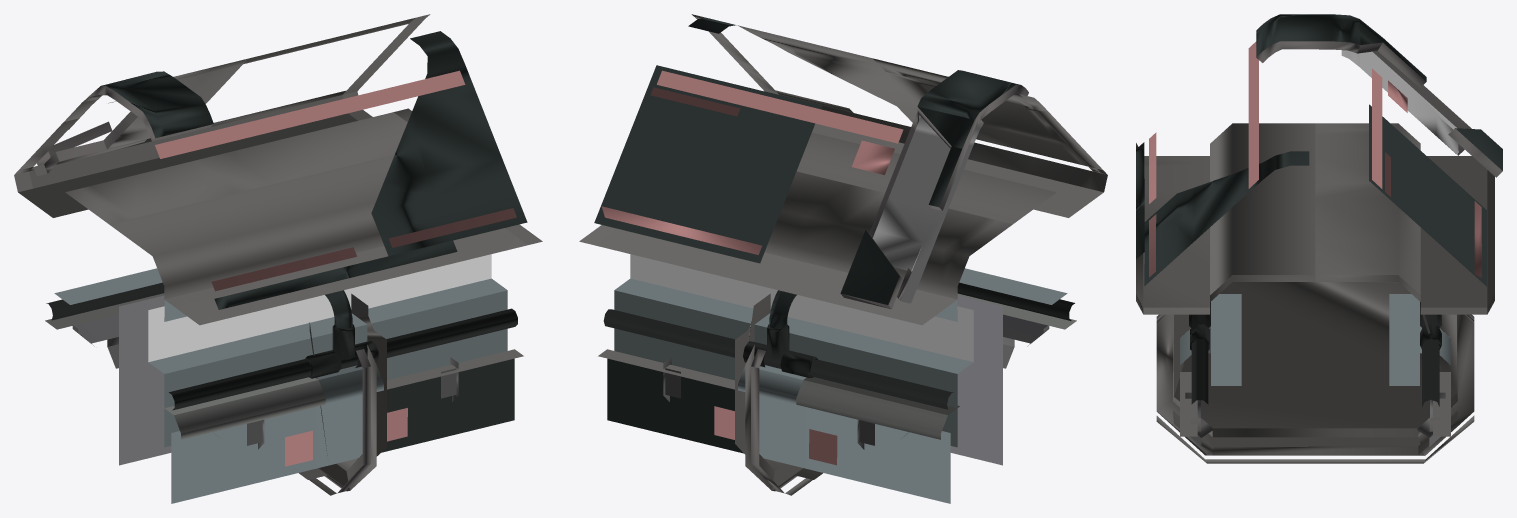
The model's file is addon_nose_e.glb.
3 views of the same model, side by side, from view 1: azimuth 30°, elevation 25°; view 2: azimuth 150°, elevation 25°; view 3: azimuth 270°, elevation 25° (orthographic). The views are drawn at different scales.
Bounding box in the file's own units: 40.07 × 43.66 × 39.1.
